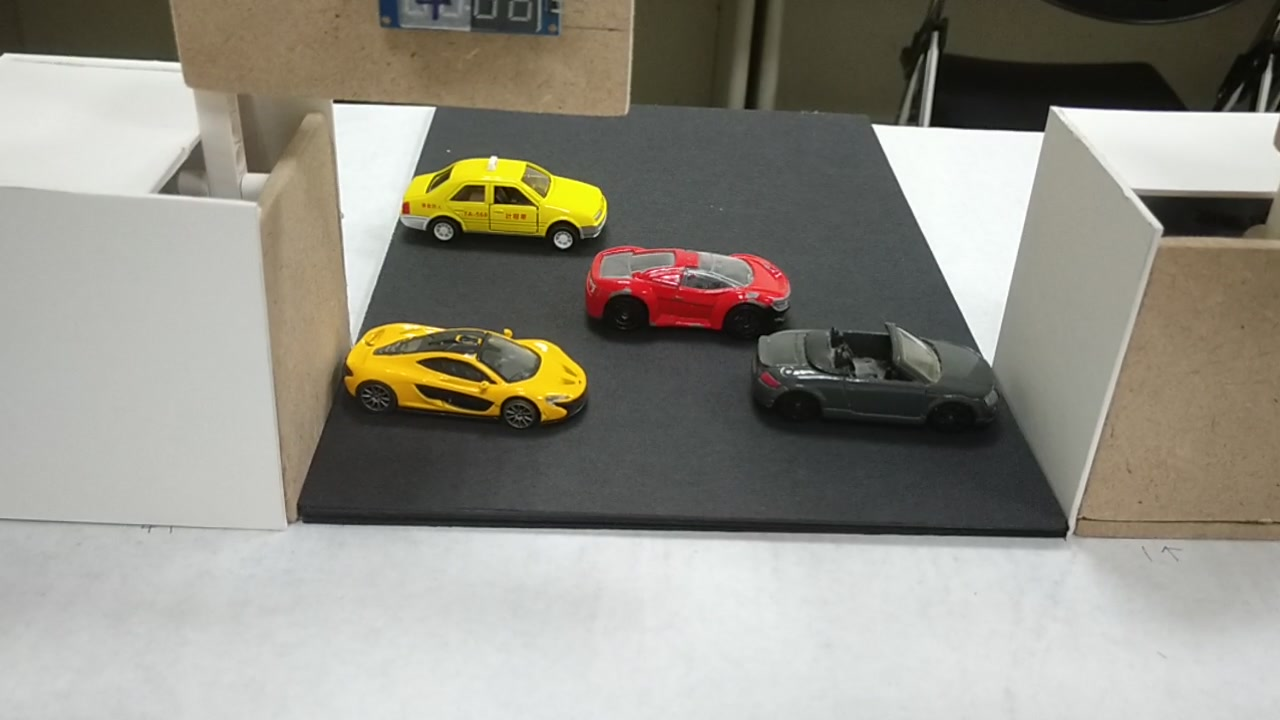car: (339, 323, 582, 427), (757, 332, 998, 431), (593, 247, 790, 329), (403, 163, 606, 242)
